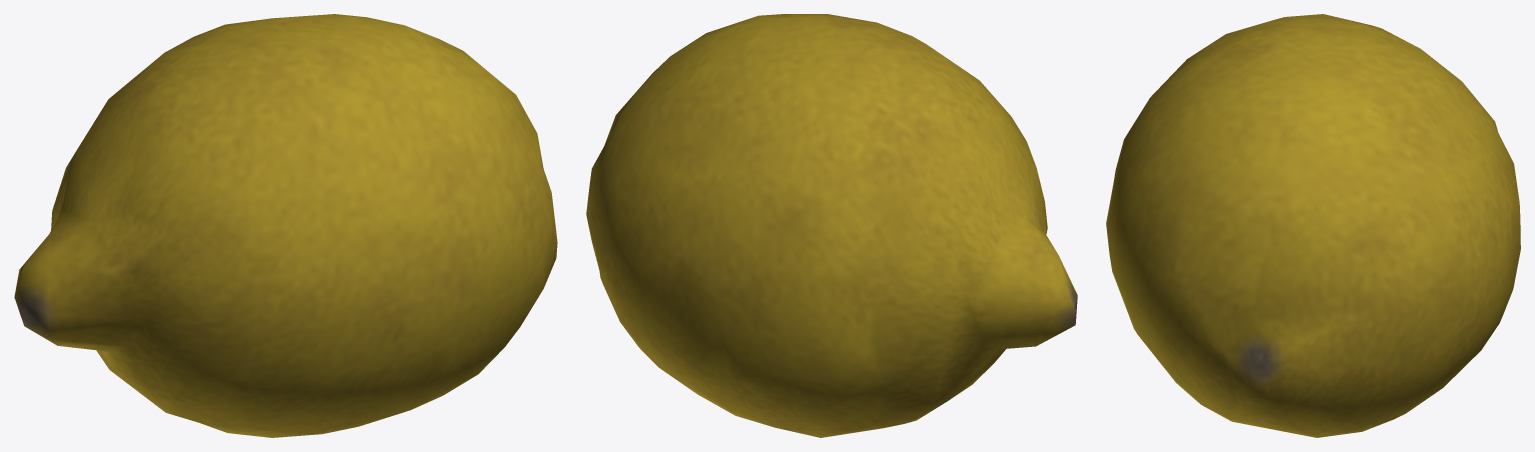
File: SM_lemon_01.fbx
3 renders of one model, left to right at view 1: azimuth 30°, elevation 25°; view 2: azimuth 150°, elevation 25°; view 3: azimuth 270°, elevation 25°, orthographic. The views are drawn at different scales.
Visible parts, largest first — view 1: SM_lemon_01_LOD0; view 2: SM_lemon_01_LOD0; view 3: SM_lemon_01_LOD0.
Part boxes in pixels (bbox=[...]): SM_lemon_01_LOD0: bbox=[14, 14, 557, 437]; SM_lemon_01_LOD0: bbox=[586, 14, 1077, 437]; SM_lemon_01_LOD0: bbox=[1106, 14, 1520, 437].
Size of the model in its own units: 9.14 by 6.93 by 6.63.
1 material, 1 textured.
